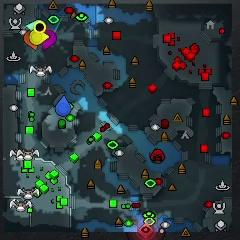p1: (55, 96, 71, 117)
p2: (25, 19, 39, 31)
p3: (42, 30, 57, 52)
p4: (29, 30, 49, 45)
p4Clone: (34, 22, 46, 33)
p5: (24, 30, 38, 51)
